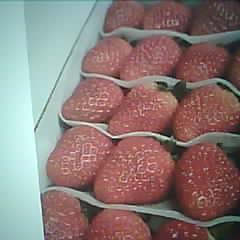straw-ripe: (95, 137, 175, 205), (176, 141, 240, 221), (47, 126, 112, 190), (174, 84, 240, 141), (108, 85, 178, 135), (64, 77, 123, 123)
